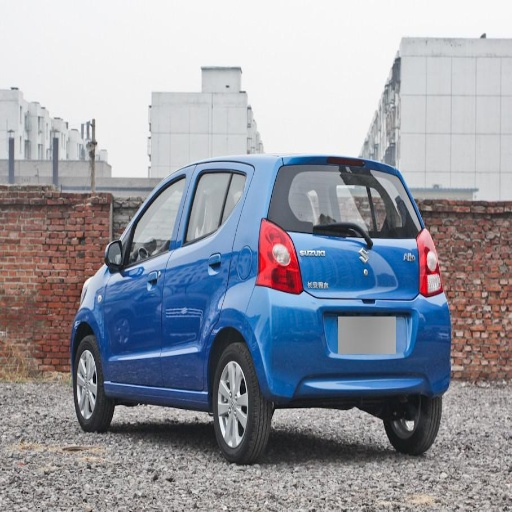back_bumper: (256, 289, 450, 400)
back_glass: (270, 163, 416, 237)
back_left_door: (162, 168, 239, 390)
tailgate: (350, 237, 416, 358)
trunk: (295, 235, 425, 359)
